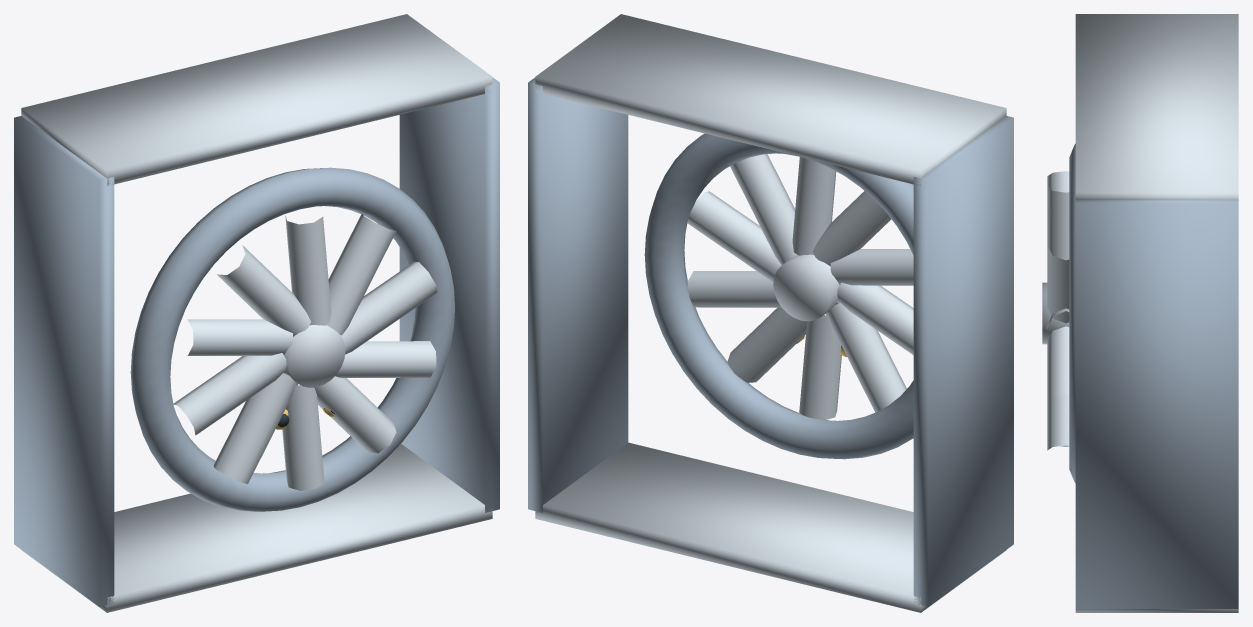
The model's file is 68_L89_ShelterEnvironmentalAirSupply.glb.
The picture shows the model from 3 angles, left to right: view 1: azimuth 30°, elevation 25°; view 2: azimuth 150°, elevation 25°; view 3: azimuth 270°, elevation 25°; orthographic projection. The views are drawn at different scales.
Visible parts, largest first — view 1: L87_ShelterEnvironmentalAirSu_Part_0000, L87_ShelterEnvironmentalAirSu_Part_0001, L87_ShelterEnvironmentalAirSu_Part_0002; view 2: L87_ShelterEnvironmentalAirSu_Part_0000, L87_ShelterEnvironmentalAirSu_Part_0001, L87_ShelterEnvironmentalAirSu_Part_0002; view 3: L87_ShelterEnvironmentalAirSu_Part_0000, L87_ShelterEnvironmentalAirSu_Part_0001, L87_ShelterEnvironmentalAirSu_Part_0002.
Part boxes in pixels (<box>): L87_ShelterEnvironmentalAirSu_Part_0000: <box>14,77,499,606</box>; L87_ShelterEnvironmentalAirSu_Part_0001: <box>21,14,492,612</box>; L87_ShelterEnvironmentalAirSu_Part_0002: <box>173,213,437,490</box>; L87_ShelterEnvironmentalAirSu_Part_0000: <box>528,77,1013,606</box>; L87_ShelterEnvironmentalAirSu_Part_0001: <box>535,14,1006,612</box>; L87_ShelterEnvironmentalAirSu_Part_0002: <box>687,154,913,419</box>; L87_ShelterEnvironmentalAirSu_Part_0000: <box>1069,143,1238,608</box>; L87_ShelterEnvironmentalAirSu_Part_0001: <box>1075,14,1238,612</box>; L87_ShelterEnvironmentalAirSu_Part_0002: <box>1042,171,1069,450</box>.
Bounding box in the file's own units: 2.7 × 2.85 × 1.21.
